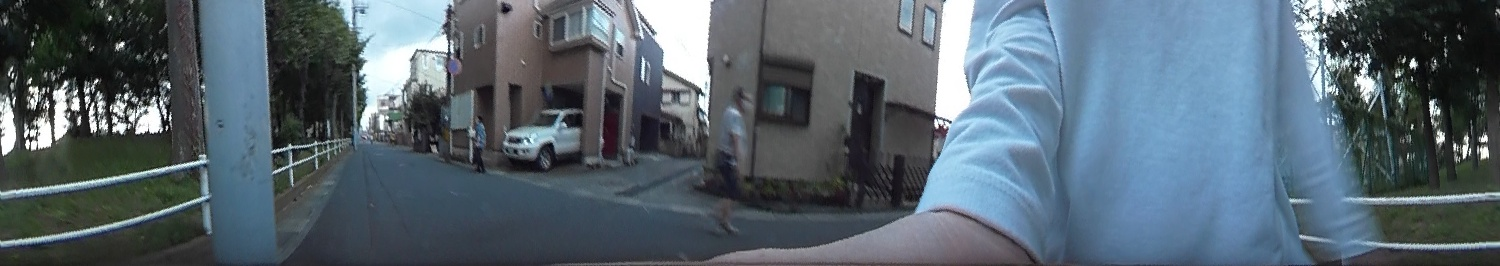difficult_person: (469, 113, 489, 173)
person: (705, 85, 754, 234)
